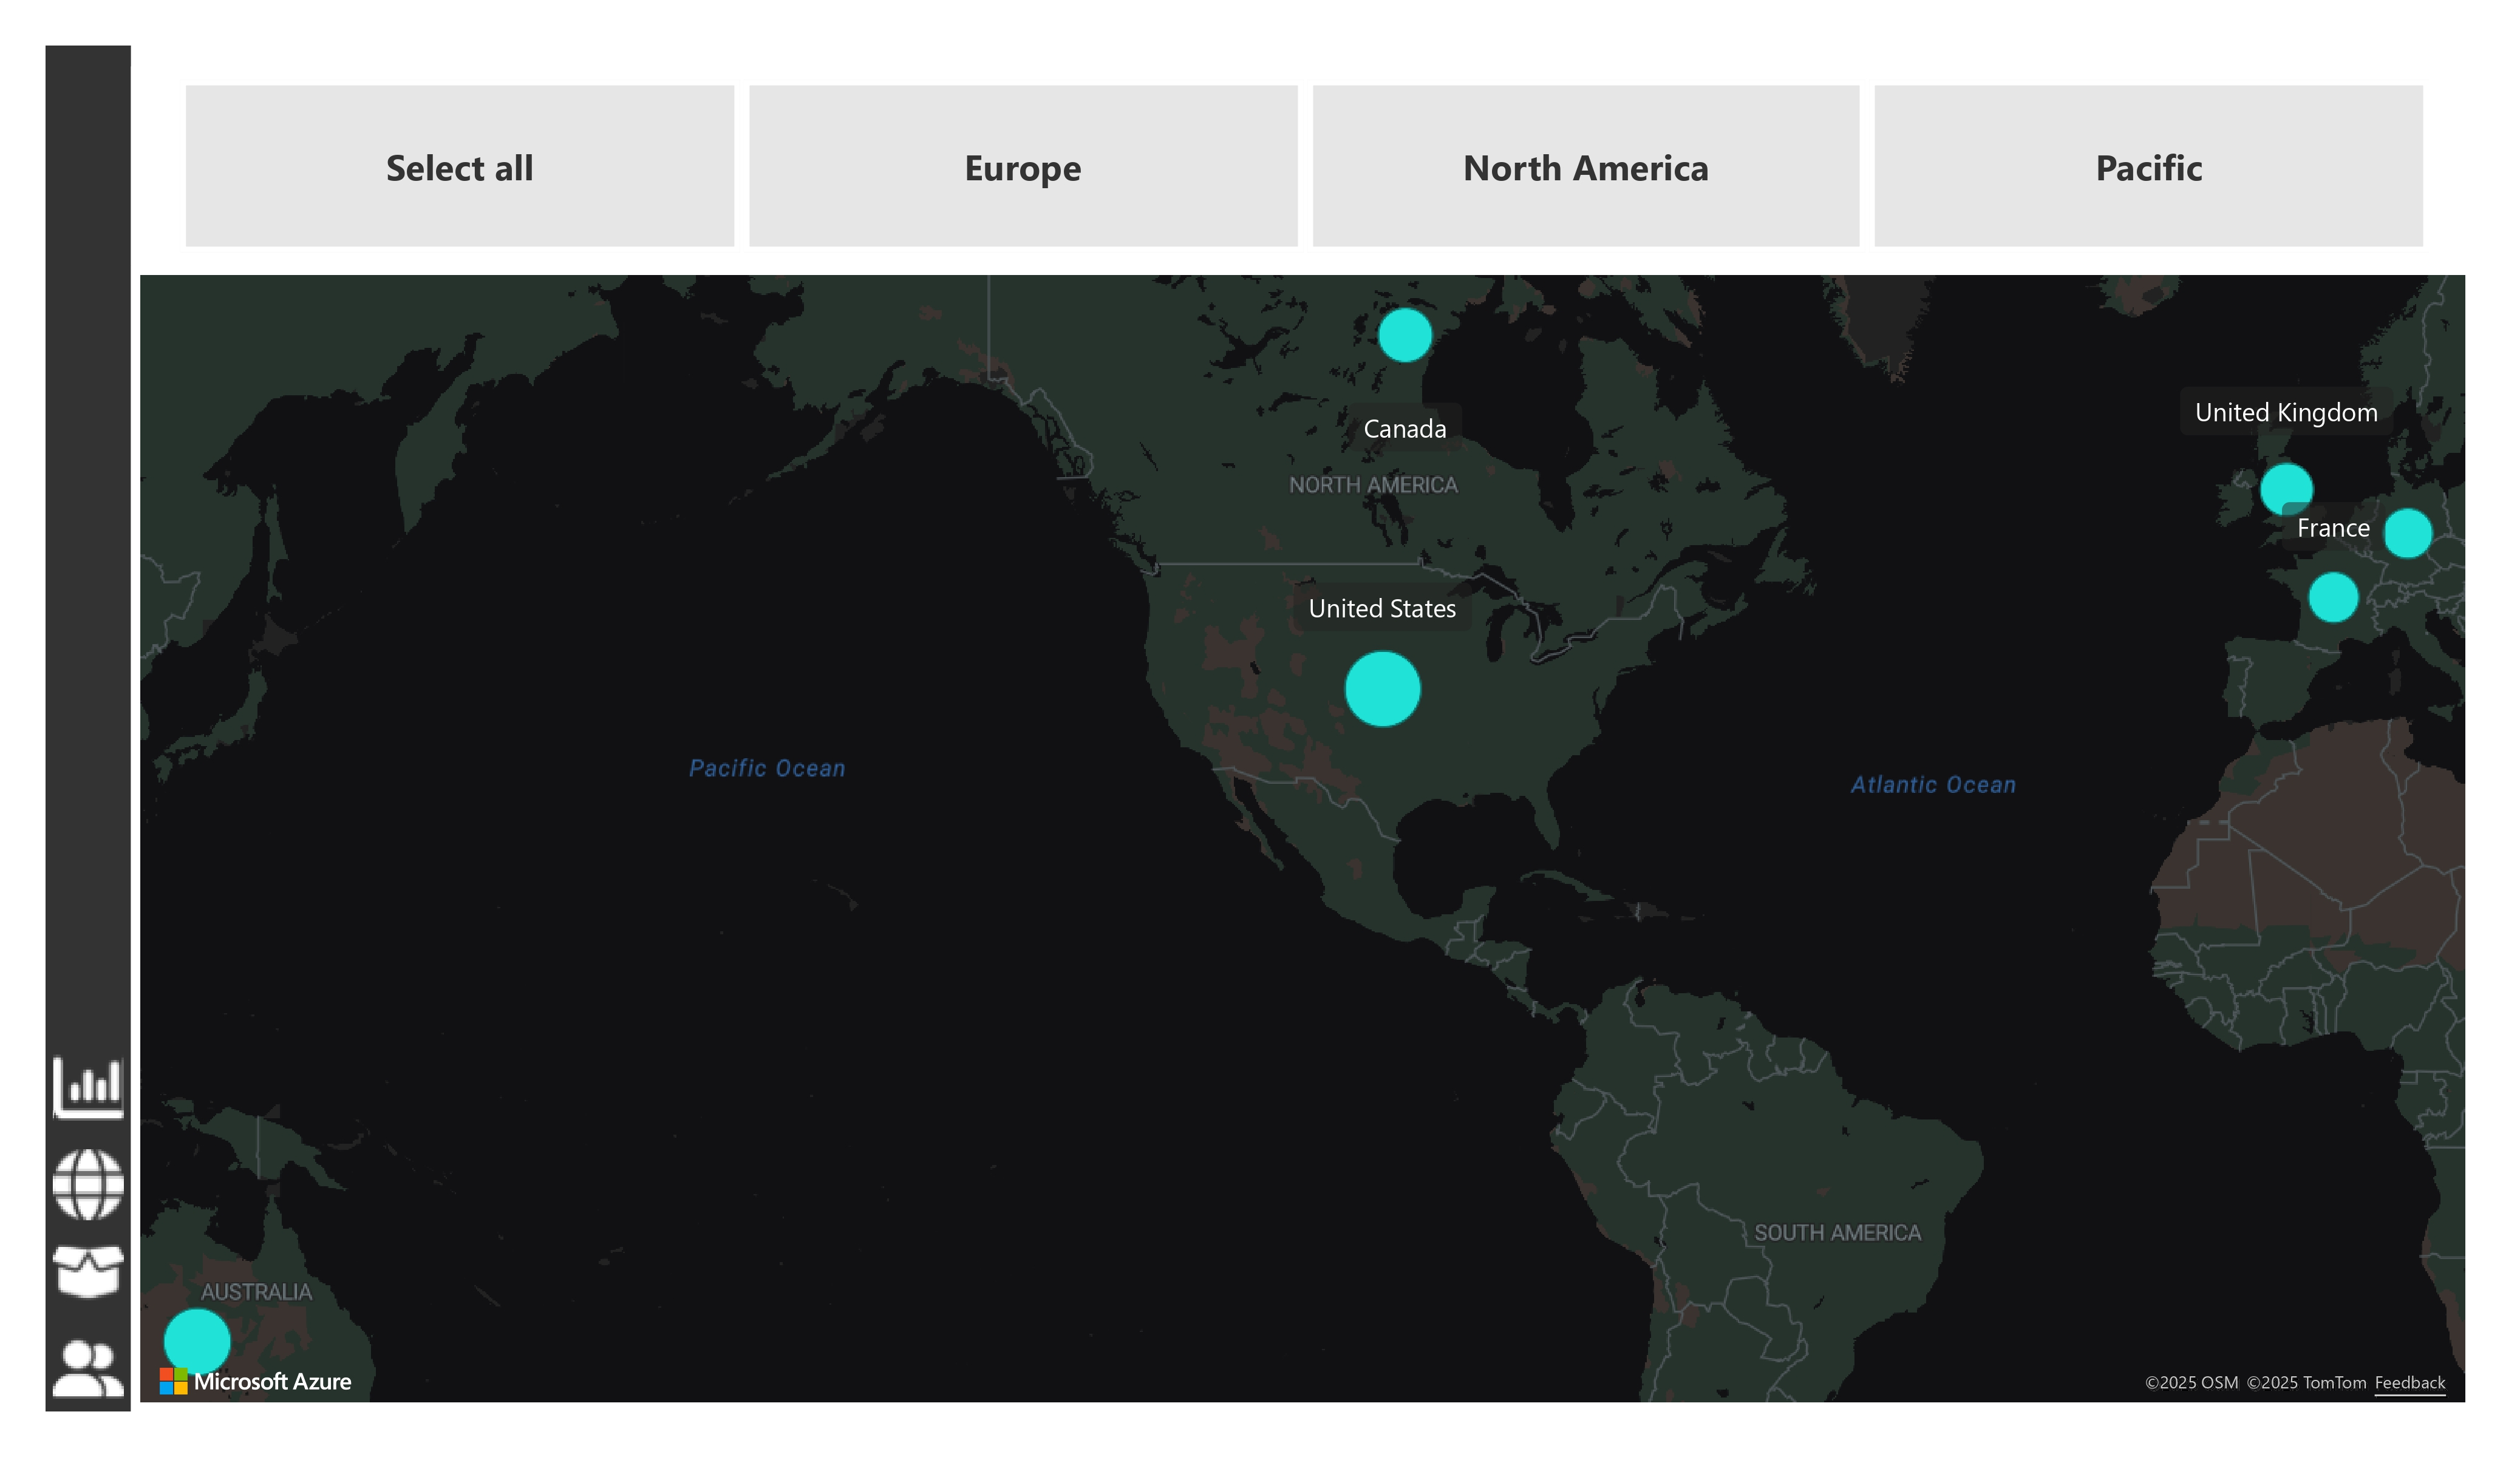

The page's visual inventory and layout, read from the dashboard file:
{"tool":"powerbi","page":{"name":"Map","canvas":[1280,720],"ordinal":1},"visuals":[{"type":"shape","title":"Left Nav Background","box":[0,0,45.2,720.2],"z":0},{"type":"azureMap","fields":{"Category":["Territory Lookup.Country"],"Size":["Measure Table.Total Orders"]},"box":[45,116.2,1235,603.8],"z":1000},{"type":"slicer","fields":{"Values":["Territory Lookup.Continent"]},"box":[45,11.2,1235,105],"z":2000},{"type":"group","id":"g1","title":"NAVGVIGATION BUTTON","box":[0,526.8,45.2,193.2],"z":3000},{"type":"actionButton","box":[0.2,526.8,45,45],"z":14000,"group":"g1"},{"type":"actionButton","box":[0.2,623.8,45,45],"z":15000,"group":"g1"},{"type":"actionButton","box":[0,675,45.2,45],"z":16000,"group":"g1"},{"type":"actionButton","box":[0.2,577.8,45,45],"z":17000,"group":"g1"}]}

Visuals, with their boxes in screenshot pixels (x1, y1, x2, y2):
"Left Nav Background" shape: <box>46,46,131,1411</box>
azureMap - Territory Lookup.Country x Measure Table.Total Orders: <box>131,266,2474,1411</box>
slicer - Territory Lookup.Continent: <box>131,67,2474,266</box>
"NAVGVIGATION BUTTON" group: <box>46,1045,131,1411</box>
actionButton: <box>46,1045,131,1130</box>
actionButton: <box>46,1229,131,1314</box>
actionButton: <box>46,1326,131,1411</box>
actionButton: <box>46,1142,131,1227</box>
